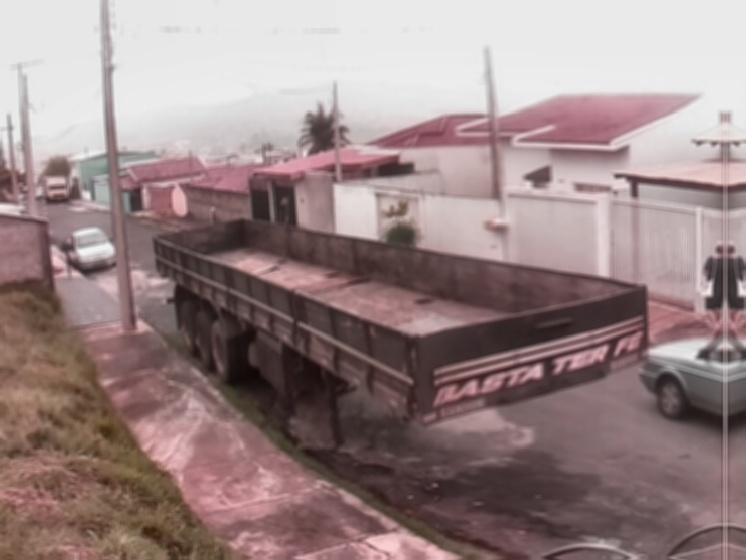person: (699, 240, 746, 338)
